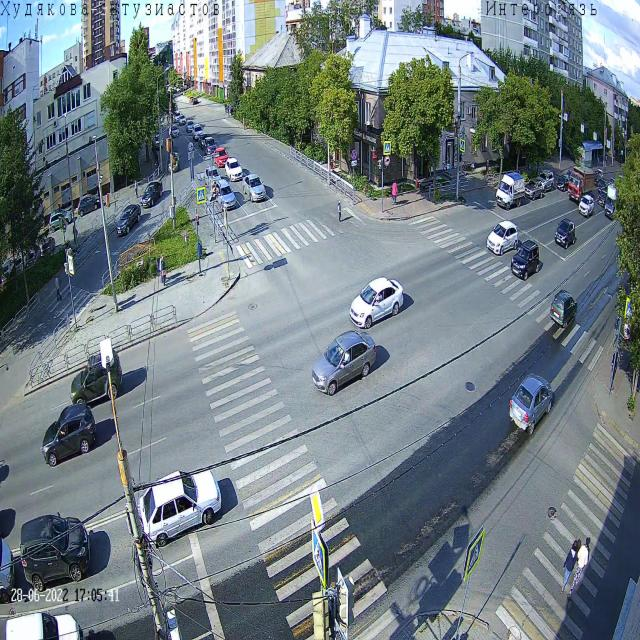car: (139, 469, 222, 548), (19, 511, 91, 593), (312, 328, 376, 396), (41, 402, 96, 468), (70, 347, 122, 412), (348, 276, 404, 330), (508, 371, 553, 437), (5, 608, 86, 640), (510, 237, 540, 281), (549, 288, 578, 329), (486, 220, 519, 256), (116, 204, 141, 235), (214, 178, 236, 212), (554, 217, 576, 250), (242, 174, 266, 202), (140, 180, 163, 208), (535, 168, 554, 194), (204, 166, 223, 191), (225, 157, 243, 182), (523, 178, 543, 200), (578, 194, 594, 219), (213, 146, 230, 168), (204, 136, 219, 158), (167, 151, 180, 173), (556, 174, 570, 193), (597, 189, 609, 208), (597, 178, 611, 194), (192, 124, 204, 142), (198, 134, 210, 150), (154, 132, 164, 150), (607, 177, 618, 192), (591, 171, 601, 187), (186, 119, 196, 134), (170, 124, 180, 138), (596, 168, 604, 181), (174, 111, 182, 123), (178, 114, 186, 126), (189, 96, 195, 104), (192, 97, 198, 105)
pedestrian: (567, 535, 589, 600), (560, 538, 578, 595), (611, 346, 619, 374), (161, 256, 167, 287), (391, 179, 398, 205), (55, 276, 62, 300), (159, 254, 164, 284), (337, 199, 342, 223), (134, 179, 139, 199), (486, 159, 489, 180), (243, 115, 246, 130), (227, 103, 229, 117), (225, 102, 227, 114), (597, 156, 599, 168)
truck: (494, 171, 526, 211), (567, 164, 596, 204), (0, 535, 15, 606), (604, 182, 622, 222)
